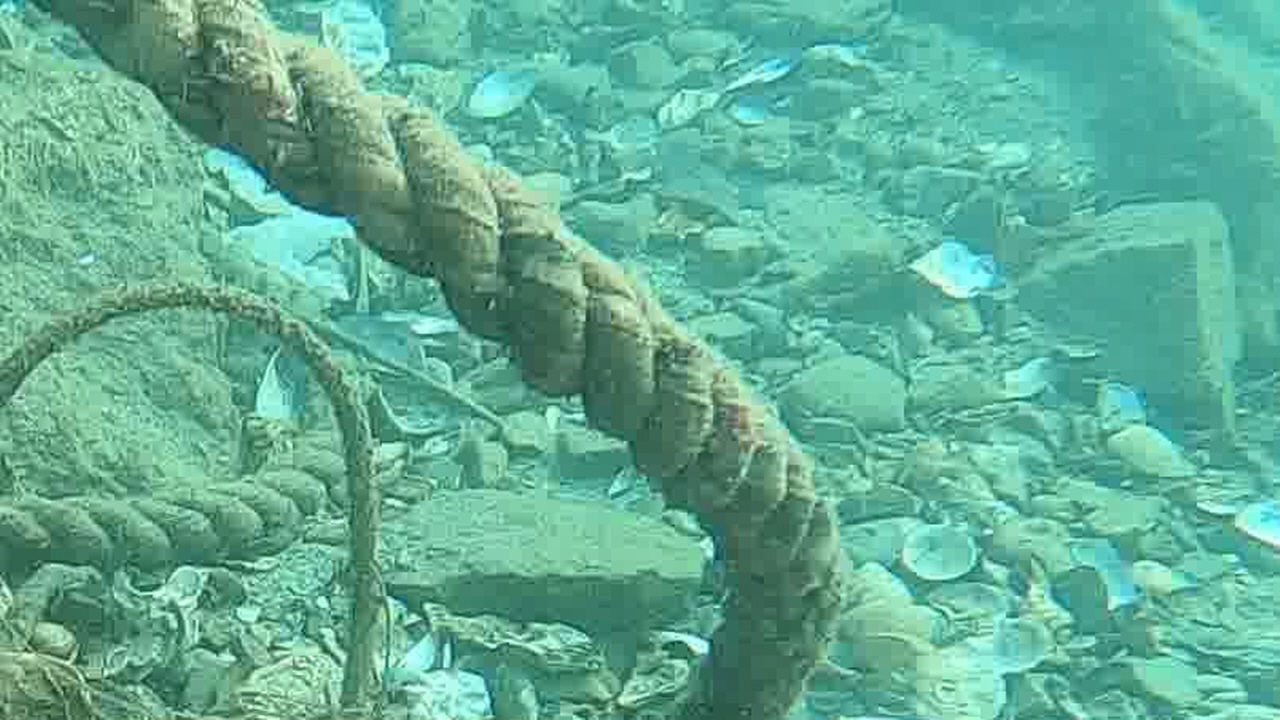rope: (26, 0, 849, 715), (0, 273, 376, 720), (0, 416, 344, 566)
